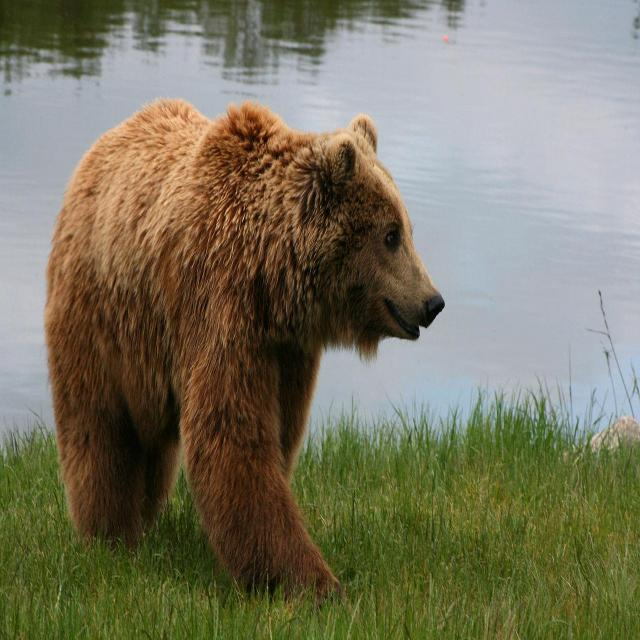Bear: (43, 98, 446, 603)
